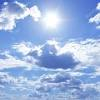sky: (1, 2, 99, 100)
